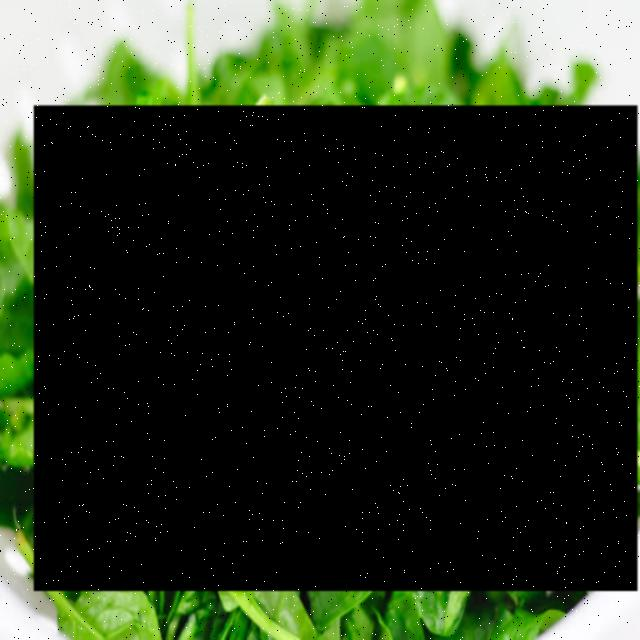Palak: (35, 107, 639, 593)
